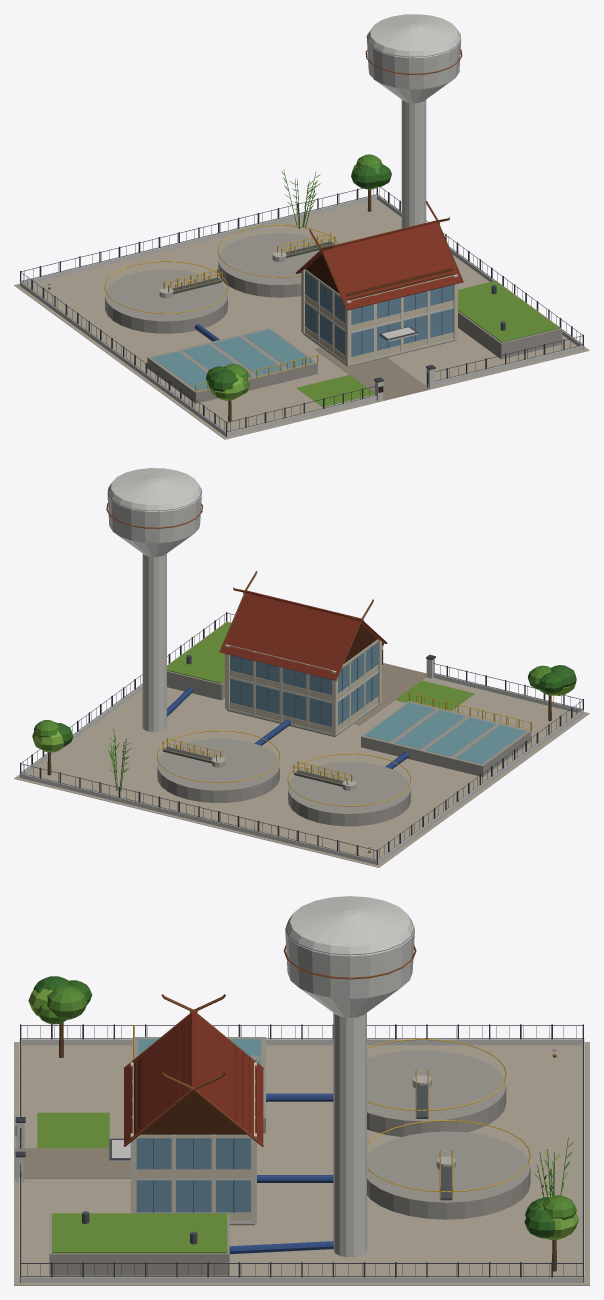
The model's file is water_works.glb.
3 views of the same model, one above another, from view 1: azimuth 30°, elevation 25°; view 2: azimuth 150°, elevation 25°; view 3: azimuth 270°, elevation 25° (orthographic). The views are drawn at different scales.
Visible parts, largest first — view 1: body; view 2: body; view 3: body.
Boxes of the visible parts, x1,y1,x2,y2 form: body: (14, 14, 589, 439); body: (14, 468, 589, 867); body: (14, 896, 589, 1285).
Bounding box in the file's own units: 47.9 × 31.19 × 47.9.
